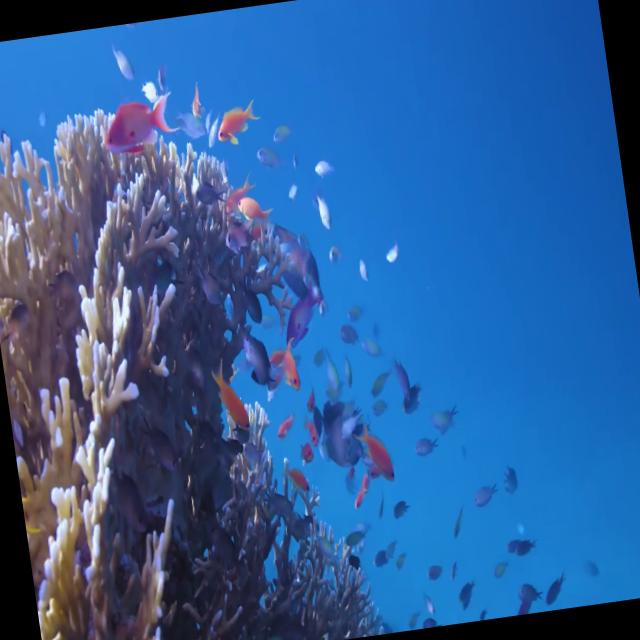fish: (104, 87, 178, 162), (301, 400, 368, 480), (208, 348, 252, 441), (354, 415, 401, 494), (232, 314, 272, 392), (217, 97, 265, 146)
